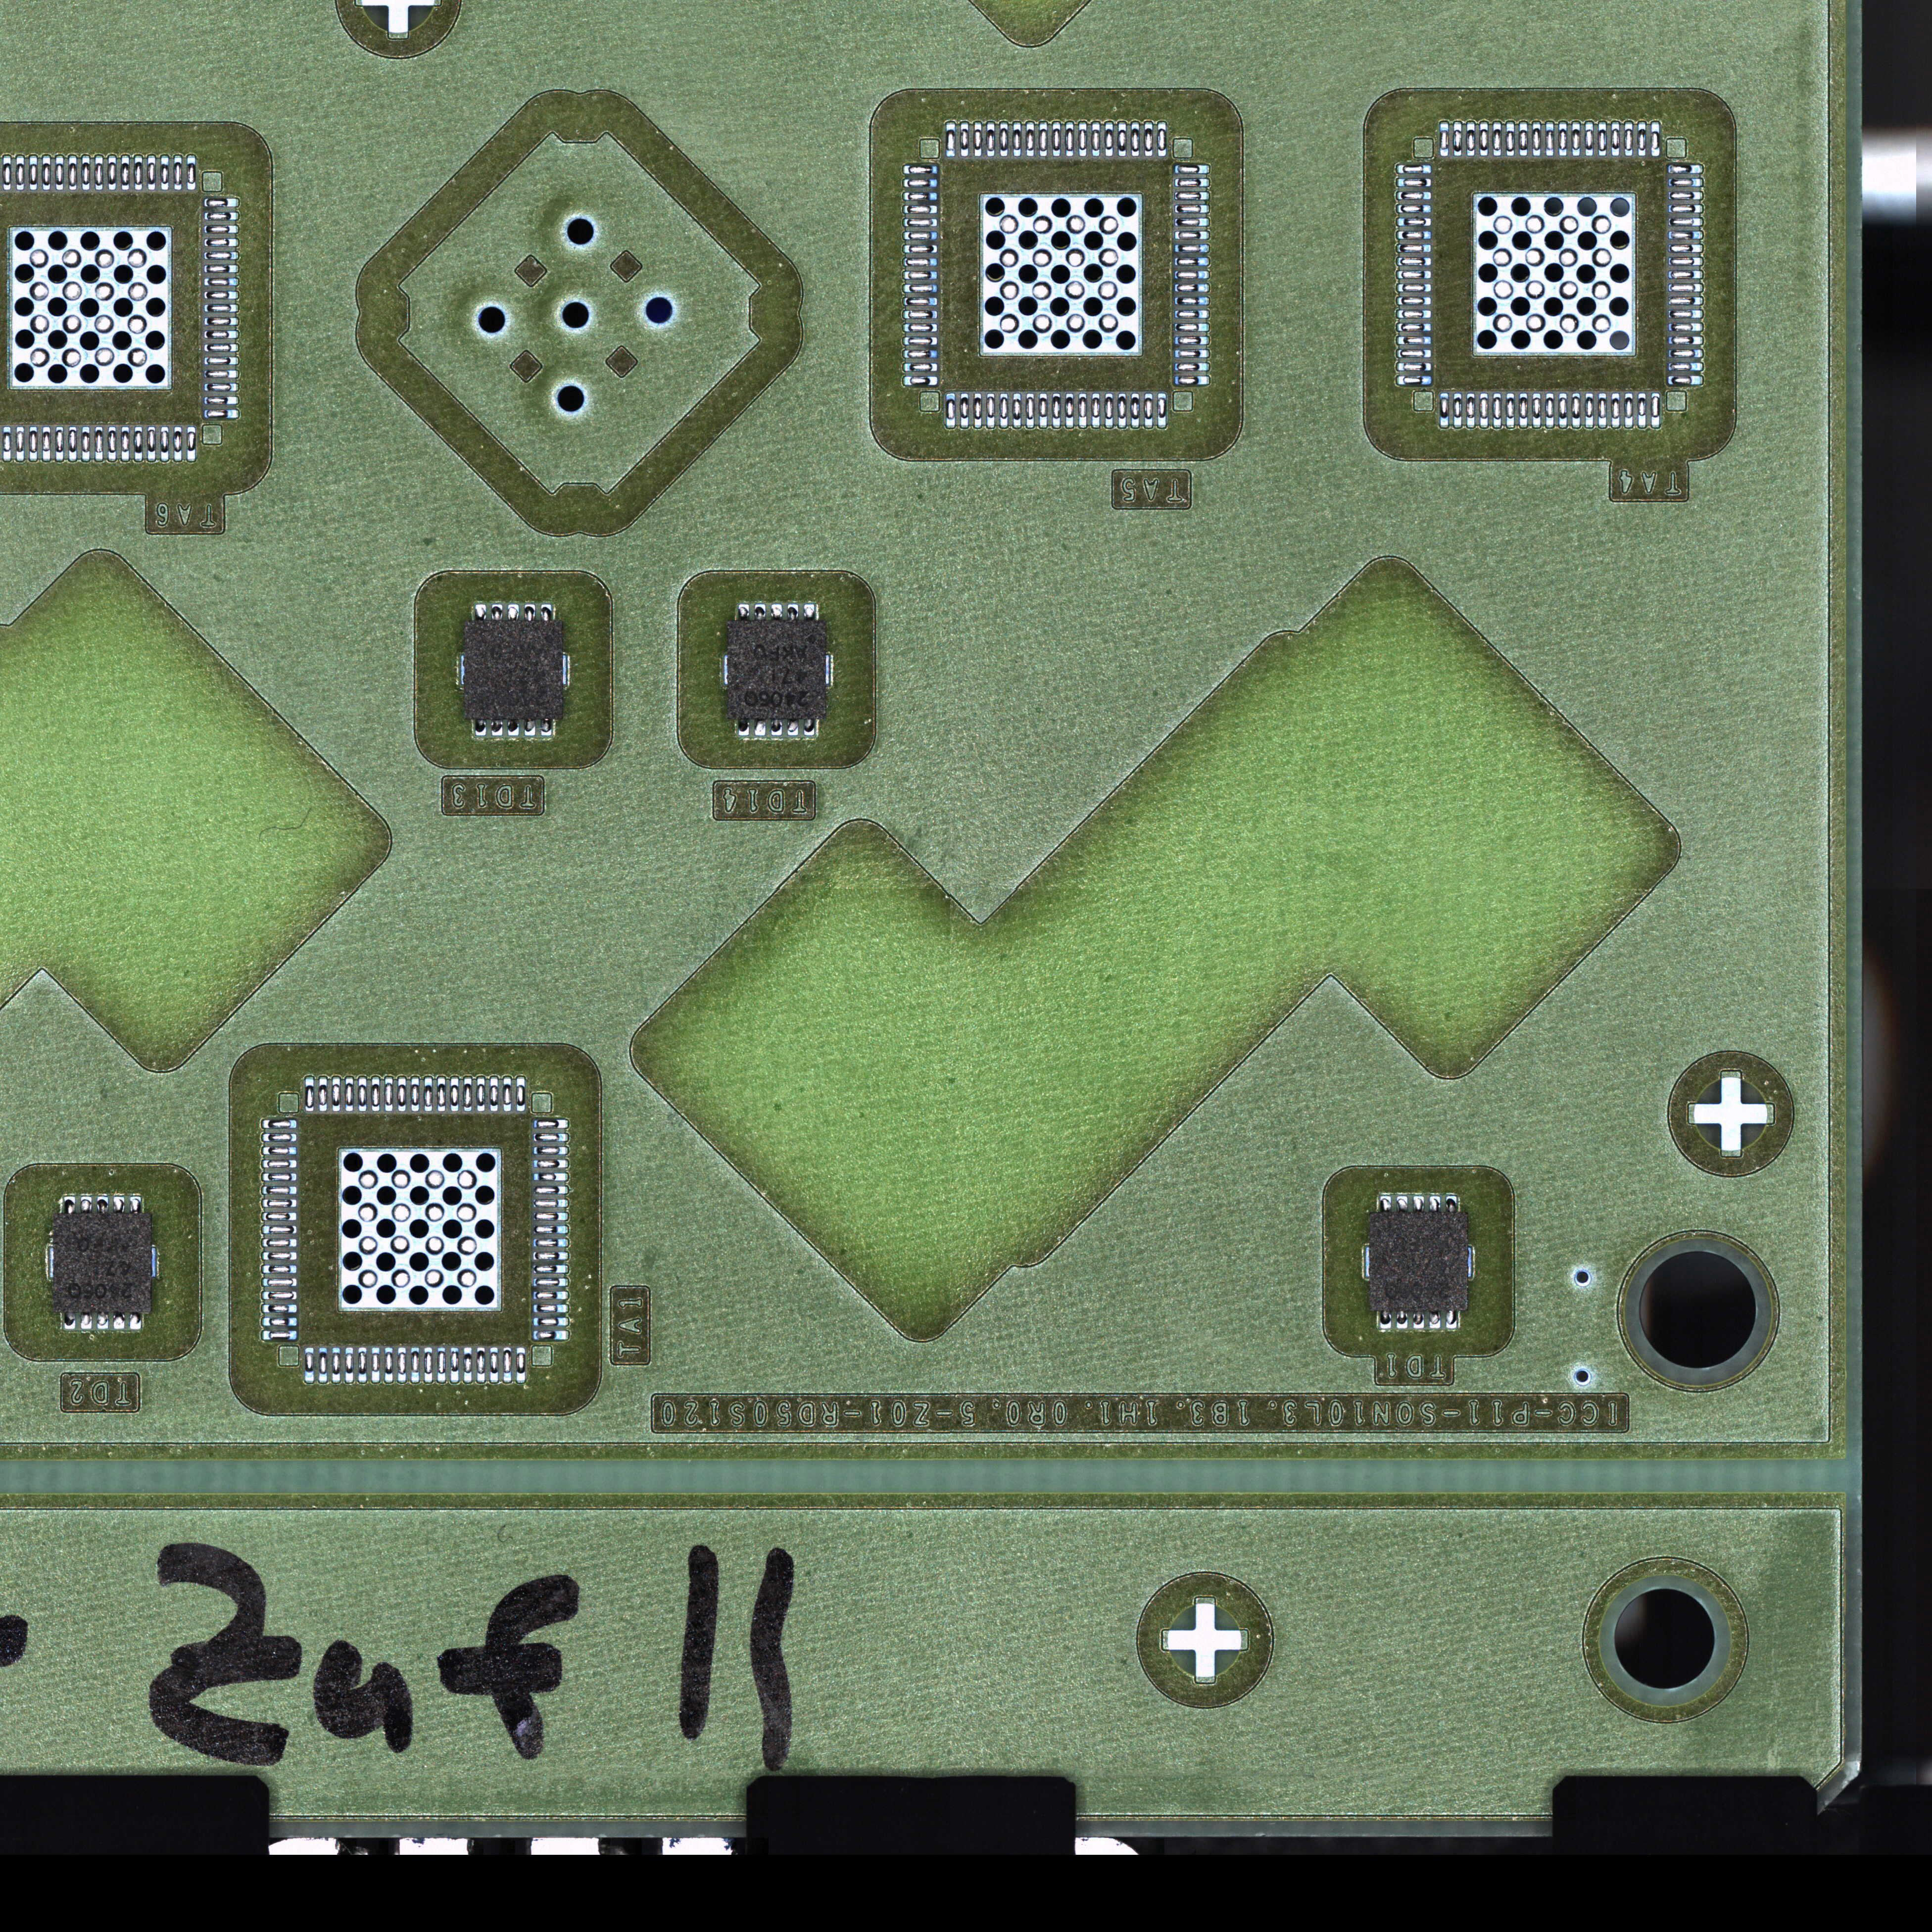Package: (53, 1215, 153, 1315), (464, 621, 563, 720), (727, 620, 826, 719), (1370, 1212, 1469, 1310)
Solder: (738, 604, 750, 620), (754, 604, 766, 620), (786, 603, 798, 620), (804, 604, 816, 620), (804, 720, 816, 736), (738, 720, 750, 736), (754, 720, 766, 736), (786, 719, 798, 735), (475, 604, 487, 621), (541, 604, 553, 621), (541, 720, 553, 736), (475, 720, 487, 736), (491, 720, 503, 736), (113, 1313, 125, 1329), (65, 1198, 77, 1214), (97, 1198, 109, 1214), (113, 1197, 125, 1213), (65, 1313, 77, 1330), (97, 1313, 109, 1330), (1429, 1311, 1441, 1328), (1380, 1196, 1392, 1212), (1397, 1196, 1408, 1212), (1429, 1196, 1441, 1212), (1446, 1196, 1458, 1212), (1446, 1312, 1458, 1328), (1380, 1312, 1392, 1328), (1397, 1312, 1408, 1328), (491, 604, 503, 620), (771, 604, 782, 620), (771, 720, 782, 736), (524, 604, 535, 620), (508, 720, 519, 736), (524, 720, 535, 736), (81, 1198, 93, 1214), (131, 1198, 142, 1214), (131, 1313, 142, 1330), (81, 1313, 93, 1330), (1413, 1312, 1424, 1328), (1413, 1196, 1424, 1212), (508, 604, 519, 620)
